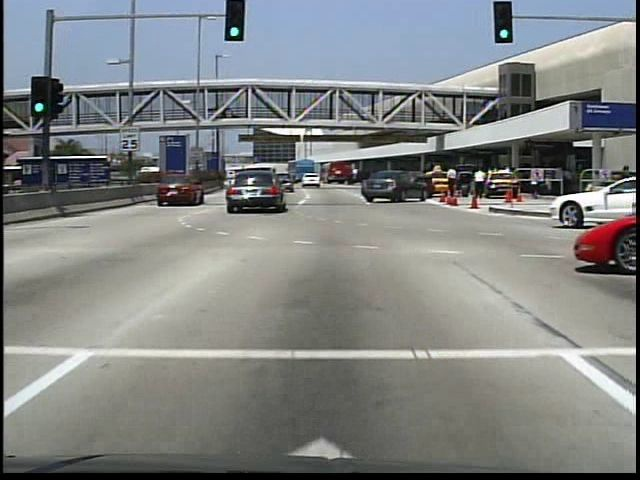person: (445, 166, 462, 204), (525, 167, 541, 201), (470, 169, 486, 202), (218, 101, 228, 121)
